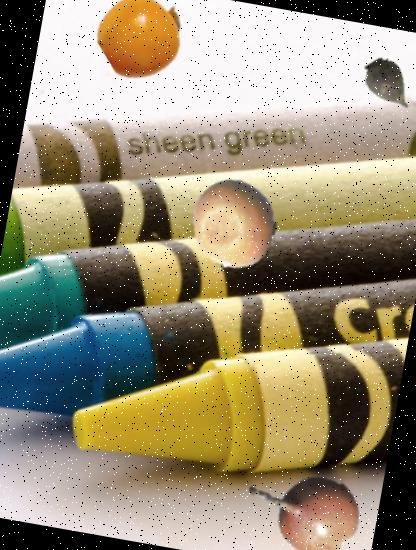Beetroot: (352, 50, 416, 121)
Granadilla: (242, 440, 373, 550)
Kumquats: (183, 172, 286, 276)
Physalis: (92, 0, 193, 85)
